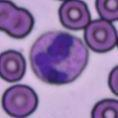N: (30, 31, 88, 84)
